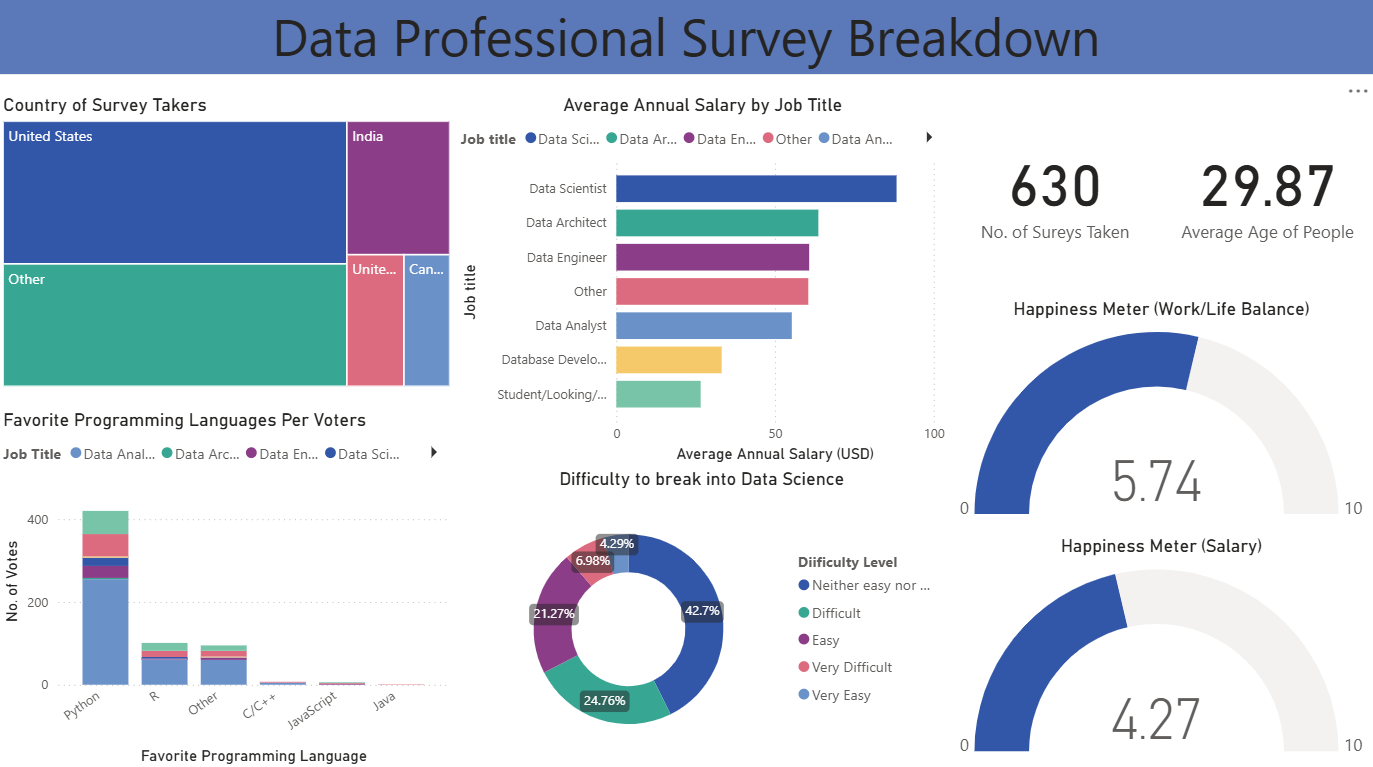

What the dashboard file says about the page in this screenshot:
{"tool":"powerbi","page":{"name":"Page 1","canvas":[1280,720],"ordinal":0},"visuals":[{"type":"textbox","box":[0,0,1280,74.7],"z":0},{"type":"card","fields":{"Values":["Count(Data Professional Survey.Unique ID)"]},"box":[885.3,92,197.3,178.7],"z":1000},{"type":"card","fields":{"Values":["Avg(Data Professional Survey.Q10 - Current Age)"]},"box":[1082.7,92,197.3,178.7],"z":2000},{"type":"barChart","title":"Average Annual Salary by Job Title","fields":{"Category":["Data Professional Survey.Q1 - Which Title Best Fits your Current Role?.1"],"Y":["Avg(Data Professional Survey.Average Annual Salary)"],"Series":["Data Professional Survey.Q1 - Which Title Best Fits your Current Role?.1"]},"box":[425.3,92,460,348],"z":3000},{"type":"columnChart","title":"Favorite Programming Languages Per Voters","fields":{"Category":["Data Professional Survey.Q5 - Favorite Programming Language.1"],"Y":["CountNonNull(Data Professional Survey.Unique ID)"],"Series":["Data Professional Survey.Q1 - Which Title Best Fits your Current Role?.1"]},"box":[0,385,424.8,335.5],"z":4000},{"type":"treemap","title":"Country of Survey Takers","fields":{"Group":["Data Professional Survey.Q11 - Which Country do you live in?.1"],"Values":["CountNonNull(Data Professional Survey.Q11 - Which Country do you live in?.1)"]},"box":[0,92,425.3,277.3],"z":5000},{"type":"gauge","title":"Happiness Meter (Work/Life Balance)","fields":{"Y":["Avg(Data Professional Survey.Q6 - How Happy are you in your Current Position with the following? (Work/Life Balance))"],"MinValue":["Min(Data Professional Survey.Q6 - How Happy are you in your Current Position with the following? (Work/Life Balance))1"],"MaxValue":["Max(Data Professional Survey.Q6 - How Happy are you in your Current Position with the following? (Work/Life Balance))2"]},"box":[885.4,270.8,394.6,228.2],"z":6000},{"type":"gauge","title":"Happiness Meter (Salary)","fields":{"Y":["Avg(Data Professional Survey.Q6 - How Happy are you in your Current Position with the following? (Salary))"],"MinValue":["Min(Data Professional Survey.Q6 - How Happy are you in your Current Position with the following? (Salary))1"],"MaxValue":["Max(Data Professional Survey.Q6 - How Happy are you in your Current Position with the following? (Salary))2"]},"box":[885.4,499.1,394.6,221.4],"z":7000},{"type":"donutChart","title":"Difficulty to break into Data Science","fields":{"Category":["Data Professional Survey.Q7 - How difficult was it for you to break into Data?"],"Y":["CountNonNull(Data Professional Survey.Q7 - How difficult was it for you to break into Data?)"]},"box":[424.8,440,460.6,280.5],"z":8000}]}

Visuals, with their boxes in screenshot pixels (x1, y1, x2, y2), scaled from the page's 1280x720 canvas onto the 1373x767 screenshot:
textbox: bbox=[0, 0, 1372, 80]
card - Count(Data Professional Survey.Unique ID): bbox=[950, 98, 1161, 288]
card - Avg(Data Professional Survey.Q10 - Current Age): bbox=[1161, 98, 1372, 288]
"Average Annual Salary by Job Title" barChart: bbox=[456, 98, 950, 469]
"Favorite Programming Languages Per Voters" columnChart: bbox=[0, 410, 456, 766]
"Country of Survey Takers" treemap: bbox=[0, 98, 456, 393]
"Happiness Meter (Work/Life Balance)" gauge: bbox=[950, 288, 1372, 532]
"Happiness Meter (Salary)" gauge: bbox=[950, 532, 1372, 766]
"Difficulty to break into Data Science" donutChart: bbox=[456, 469, 950, 766]
